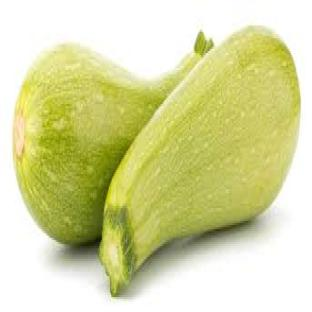Zucchini: (100, 28, 300, 295), (14, 32, 211, 244)
